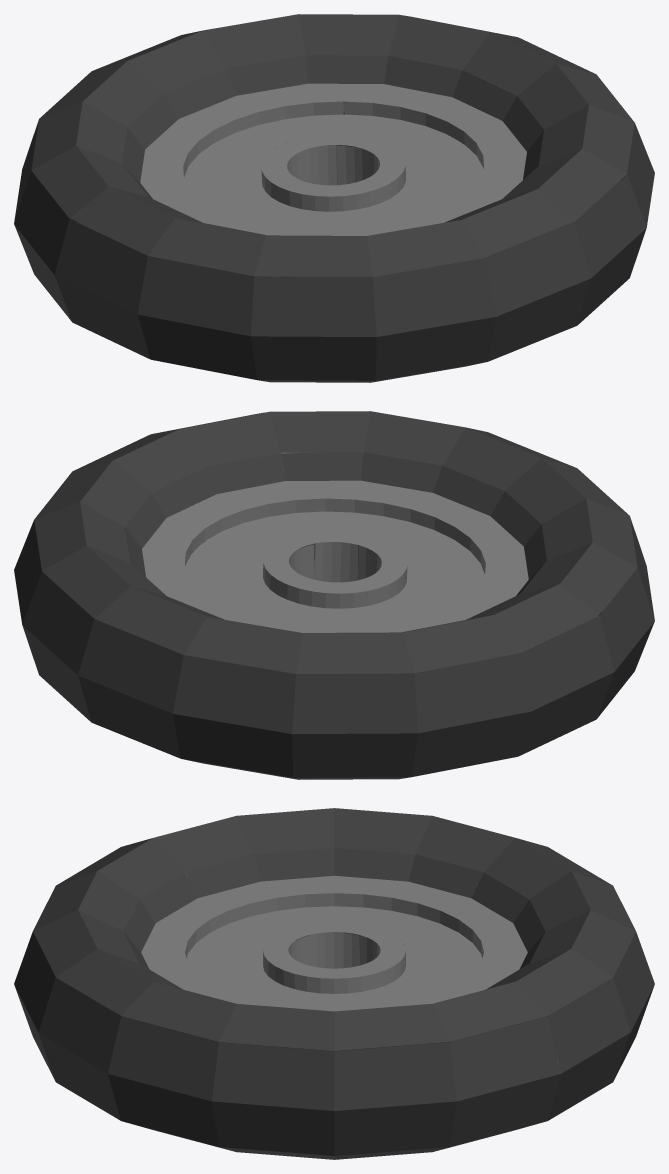
File: single_tire.glb
3 renders of one model, top to bottom at view 1: azimuth 30°, elevation 25°; view 2: azimuth 150°, elevation 25°; view 3: azimuth 270°, elevation 25°, orthographic.
Parts seen in each view (by area): view 1: Torus; view 2: Torus; view 3: Torus.
Part boxes in pixels (x1=…): Torus: x1=14, y1=14, x2=654, y2=382; Torus: x1=14, y1=411, x2=654, y2=779; Torus: x1=14, y1=808, x2=654, y2=1159.
Size of the model in its own units: 2.78 by 0.7649 by 2.78.
1 material, 1 textured.
